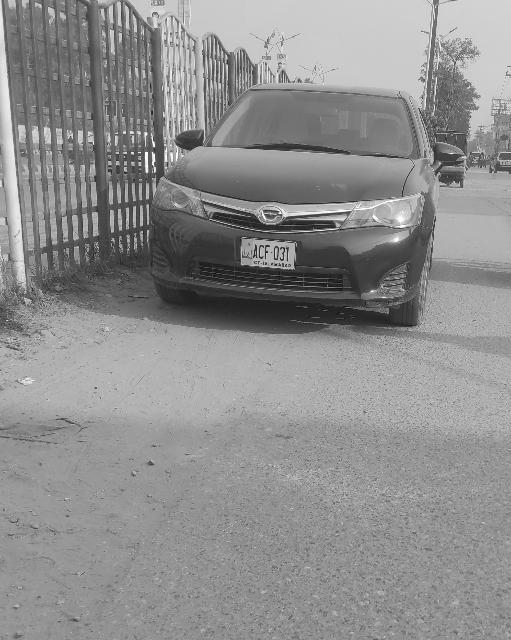Number: (252, 243, 292, 260)
